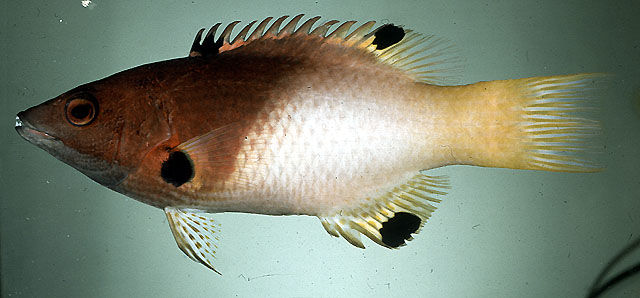fish: (15, 15, 608, 276)
